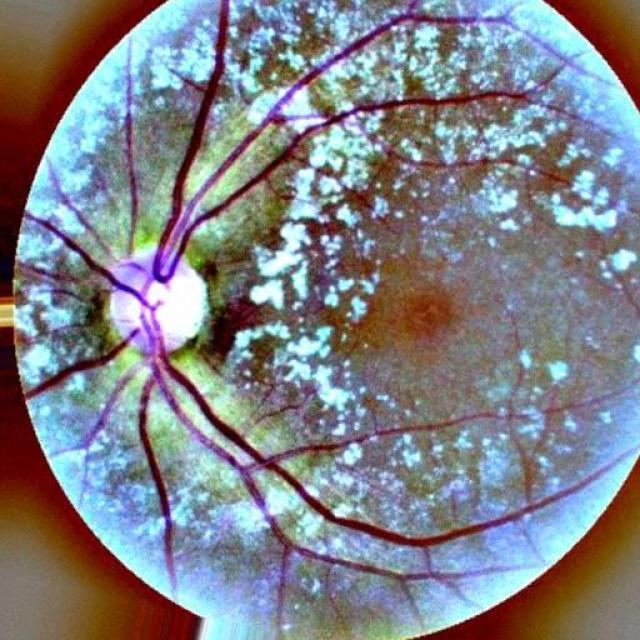Macula: (381, 279, 474, 359)
Nerves: (149, 9, 597, 282), (131, 314, 597, 567)
Optic Disk: (102, 250, 212, 359)
